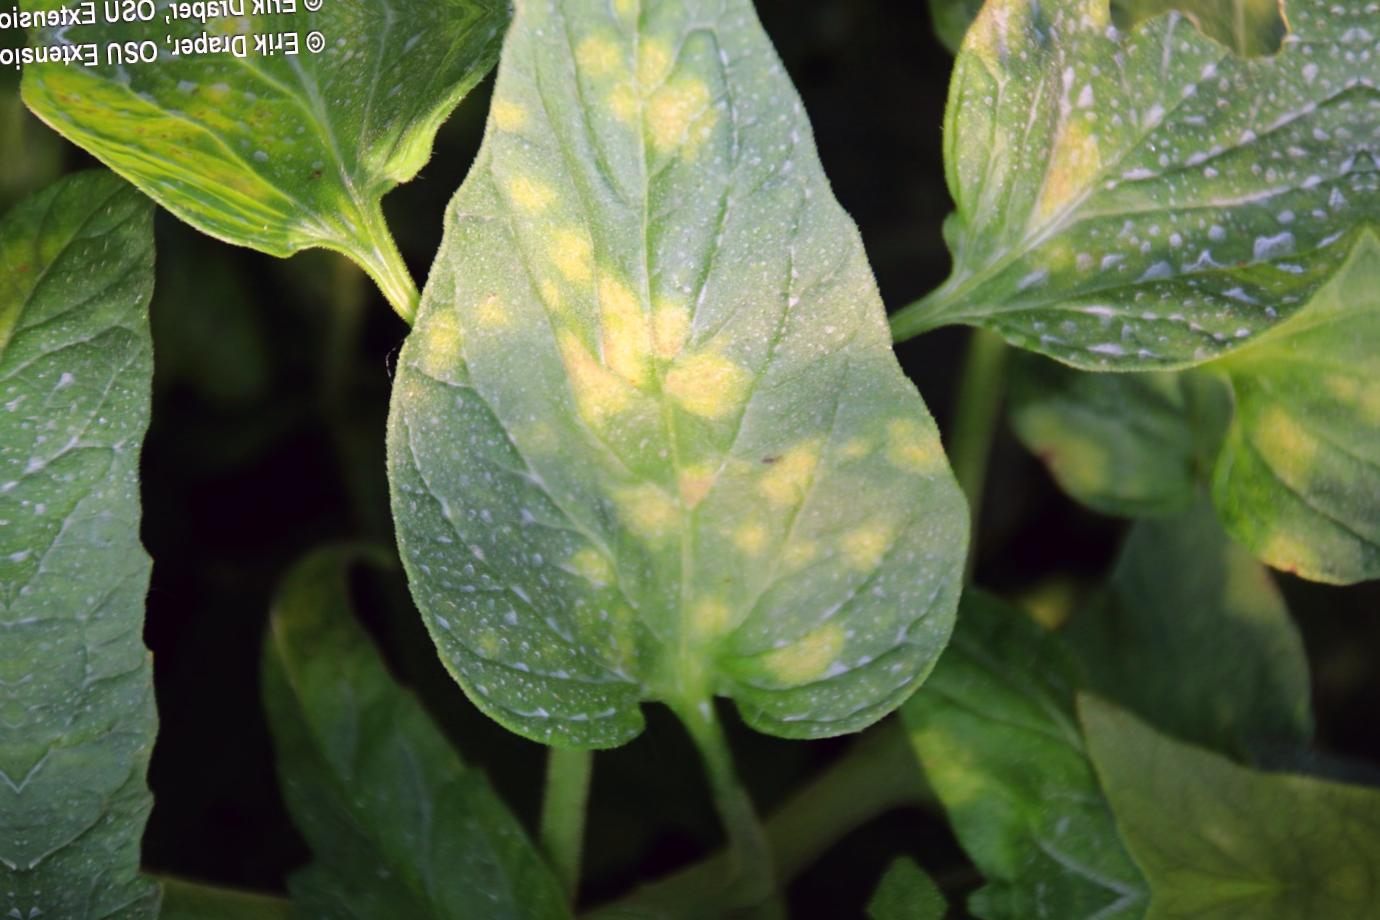Tomato mold leaf: (376, 0, 990, 795)
